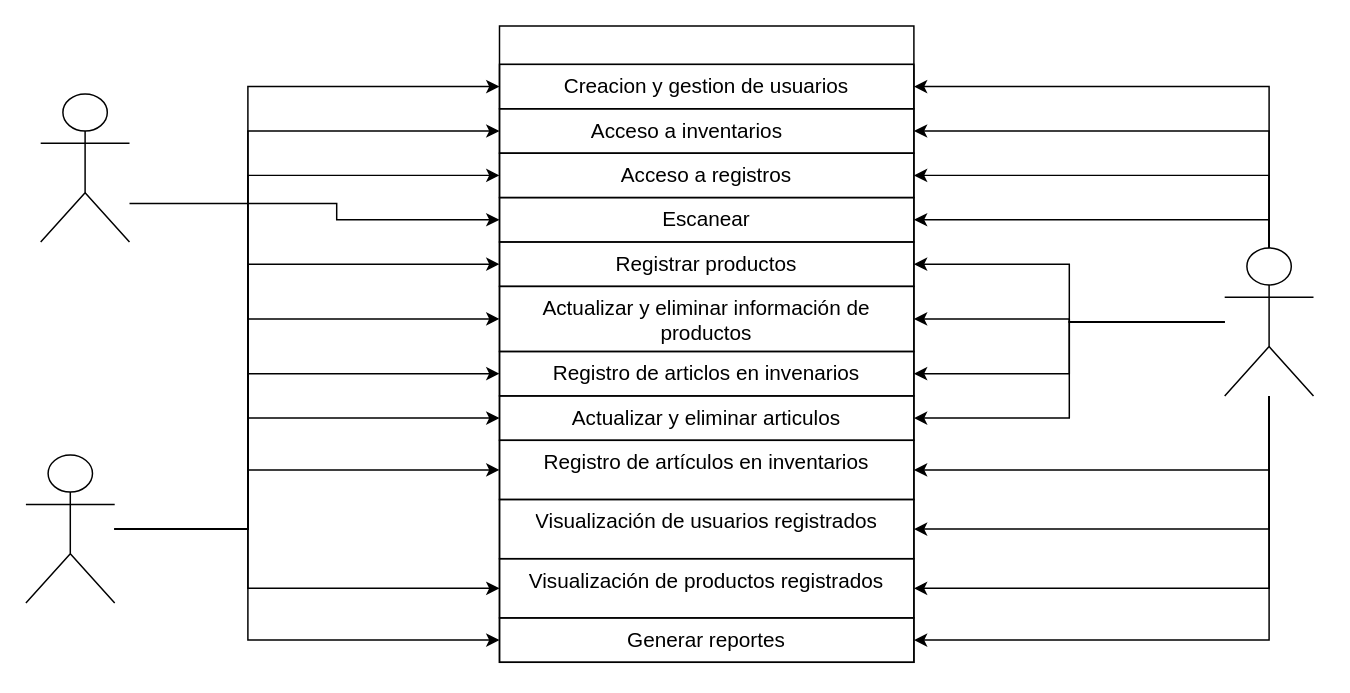
This 1350x693 diagram has some shape labels left out. Here are the shapes that lost their labels. From the top down, the centre of each, then its label:
At pixel 84 167: "Operador".
At pixel 1268 321: "Administrador".
At pixel 69 528: "Supervisor".
